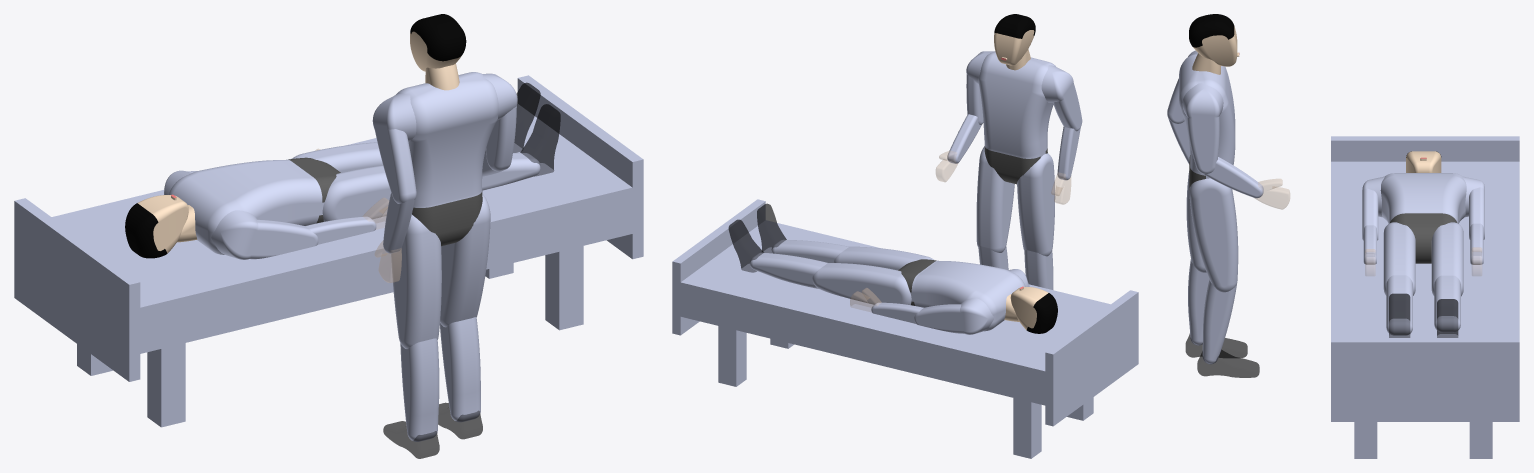
3 renders of one model, left to right at view 1: azimuth 30°, elevation 25°; view 2: azimuth 150°, elevation 25°; view 3: azimuth 270°, elevation 25°, orthographic. The views are drawn at different scales.
Parts seen in each view (by area): view 1: color-2, color-3 (×2), color-7 (×4), color-5 (×3), color-8 (×3), heavy ripple water-2_clonedChild (×4), heavy ripple water-2 (×4), color-4 (×2), color-12 (×2), color-10 (×2), color-6 (×2), heavy ripple water_clonedChild (+2 smaller); view 2: color-2, color-7 (×4), color-3 (×2), color-5 (×3), color-8 (×4), color-6 (×3), color-10 (×2), heavy ripple water-2_clonedChild (×2), heavy ripple water-2 (×2), color-4 (×2), color-12 (×2), heavy ripple water_clonedChild (×3); view 3: color-2, color-7 (×4), color-8 (×4), color-3 (×2), color-5 (×4), heavy ripple water-2_clonedChild (×4), color-6 (×4), heavy ripple water-2 (×4), color-10 (×2), color-4, color-12, heavy ripple water_clonedChild (+2 smaller).
Boxes of the visible parts, <box> form: color-2: <box>14,75,643,427</box>; color-3 (×2): <box>169,72,498,254</box>; color-7 (×4): <box>292,142,490,348</box>; color-5 (×3): <box>211,73,517,259</box>; color-8 (×3): <box>400,153,540,441</box>; heavy ripple water-2_clonedChild (×4): <box>383,83,560,458</box>; heavy ripple water-2 (×4): <box>383,83,560,458</box>; color-4 (×2): <box>288,157,482,246</box>; color-12 (×2): <box>125,14,466,258</box>; color-10 (×2): <box>137,31,461,253</box>; color-6 (×2): <box>305,193,414,253</box>; heavy ripple water_clonedChild: <box>375,241,401,282</box>; color-2: <box>672,199,1138,458</box>; color-7 (×4): <box>812,146,1055,305</box>; color-3 (×2): <box>910,51,1055,331</box>; color-5 (×3): <box>914,51,1082,334</box>; color-8 (×4): <box>750,239,1053,289</box>; color-6 (×3): <box>871,114,1080,323</box>; color-10 (×2): <box>994,30,1048,329</box>; heavy ripple water-2_clonedChild (×2): <box>729,204,786,272</box>; heavy ripple water-2 (×2): <box>729,204,786,267</box>; color-4 (×2): <box>898,146,1047,305</box>; color-12 (×2): <box>994,14,1057,333</box>; heavy ripple water_clonedChild (×3): <box>850,151,1070,311</box>; color-2: <box>1331,136,1519,458</box>; color-7 (×4): <box>1186,171,1463,296</box>; color-8 (×4): <box>1188,259,1460,364</box>; color-3 (×2): <box>1179,53,1466,223</box>; color-5 (×4): <box>1167,50,1484,240</box>; heavy ripple water-2_clonedChild (×4): <box>1186,294,1457,377</box>; color-6 (×4): <box>1167,110,1483,264</box>; heavy ripple water-2 (×4): <box>1186,294,1457,377</box>; color-10 (×2): <box>1193,26,1441,172</box>; color-4: <box>1390,213,1457,263</box>; color-12: <box>1189,14,1234,47</box>; heavy ripple water_clonedChild: <box>1255,179,1289,209</box>.
Bounding box in the file's own units: 2.33 × 1.84 × 1.68.
